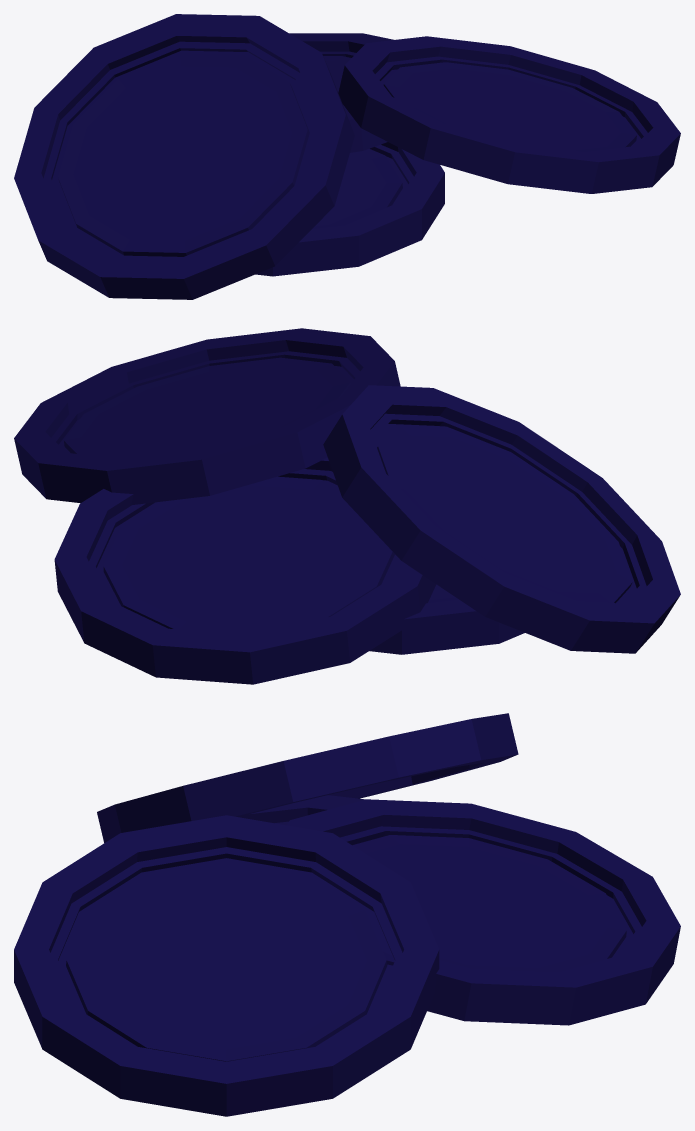
File: UI_SM_Fallen_Poker_Stack.fbx
The picture shows the model from 3 angles, top to bottom: view 1: azimuth 30°, elevation 25°; view 2: azimuth 150°, elevation 25°; view 3: azimuth 270°, elevation 25°; orthographic projection. The views are drawn at different scales.
Visible parts, largest first — view 1: UI_SM_Fallen_Poker_Stack; view 2: UI_SM_Fallen_Poker_Stack; view 3: UI_SM_Fallen_Poker_Stack.
Boxes of the visible parts, x1,y1,x2,y2 form: UI_SM_Fallen_Poker_Stack: [14, 14, 680, 299]; UI_SM_Fallen_Poker_Stack: [14, 328, 680, 684]; UI_SM_Fallen_Poker_Stack: [14, 713, 680, 1116].
Bounding box in the file's own units: 390 × 314 × 116.
